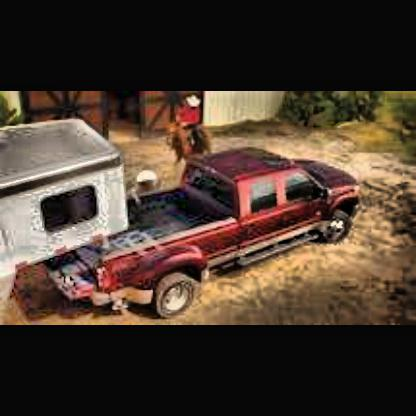Ford F-450 Super Duty Crew Cab 2012: (3, 116, 366, 324)
